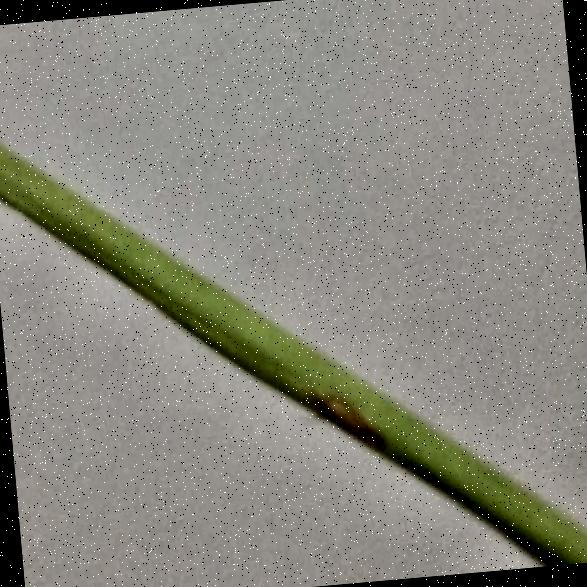Leaf_smut: (302, 379, 392, 466)
